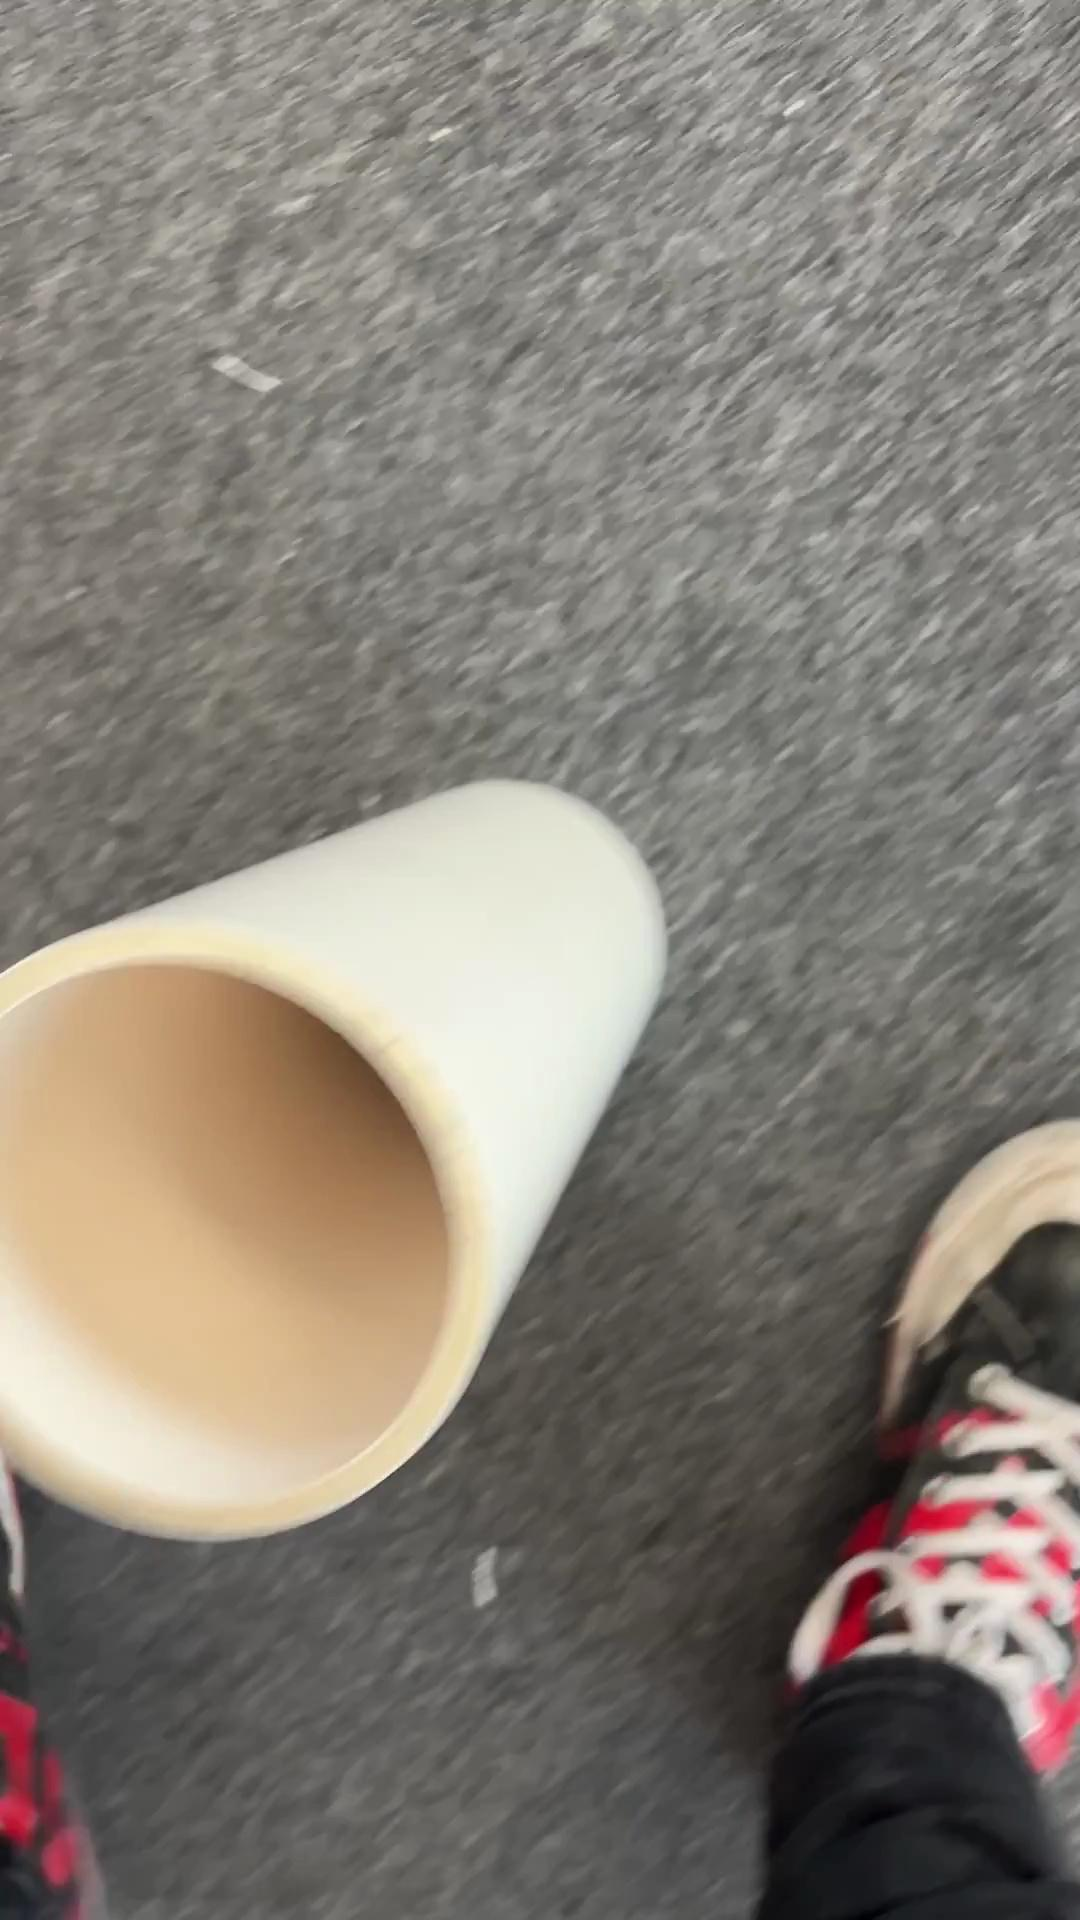CORAL: (1, 773, 669, 1544)
